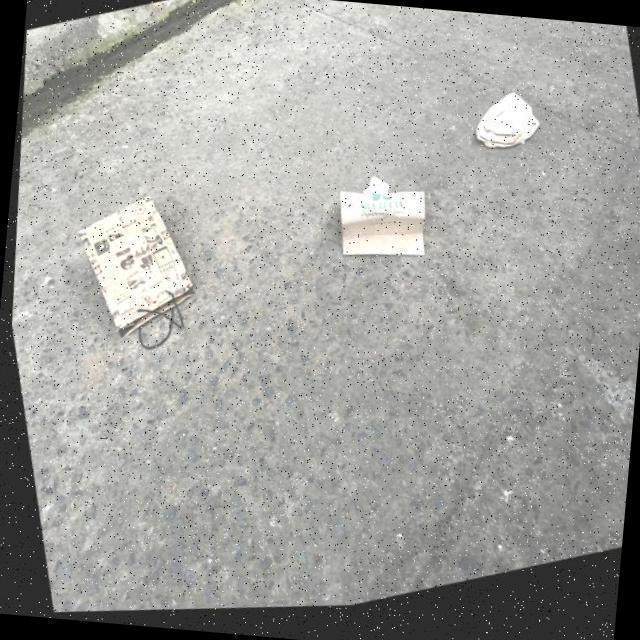Paper_Bag: (64, 176, 214, 372), (316, 164, 441, 294), (467, 92, 545, 170)
